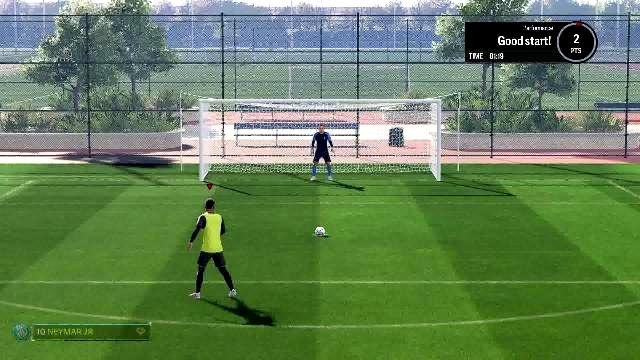bottom-left: (205, 144, 279, 180)
bottom-right: (358, 145, 434, 181)
center-down: (278, 144, 356, 180)
center-up: (282, 103, 360, 142)
football: (315, 227, 327, 237)
goalkeeper: (309, 122, 339, 182)
player: (186, 196, 238, 304)
top-left: (203, 103, 279, 143)
top-right: (362, 104, 438, 144)
